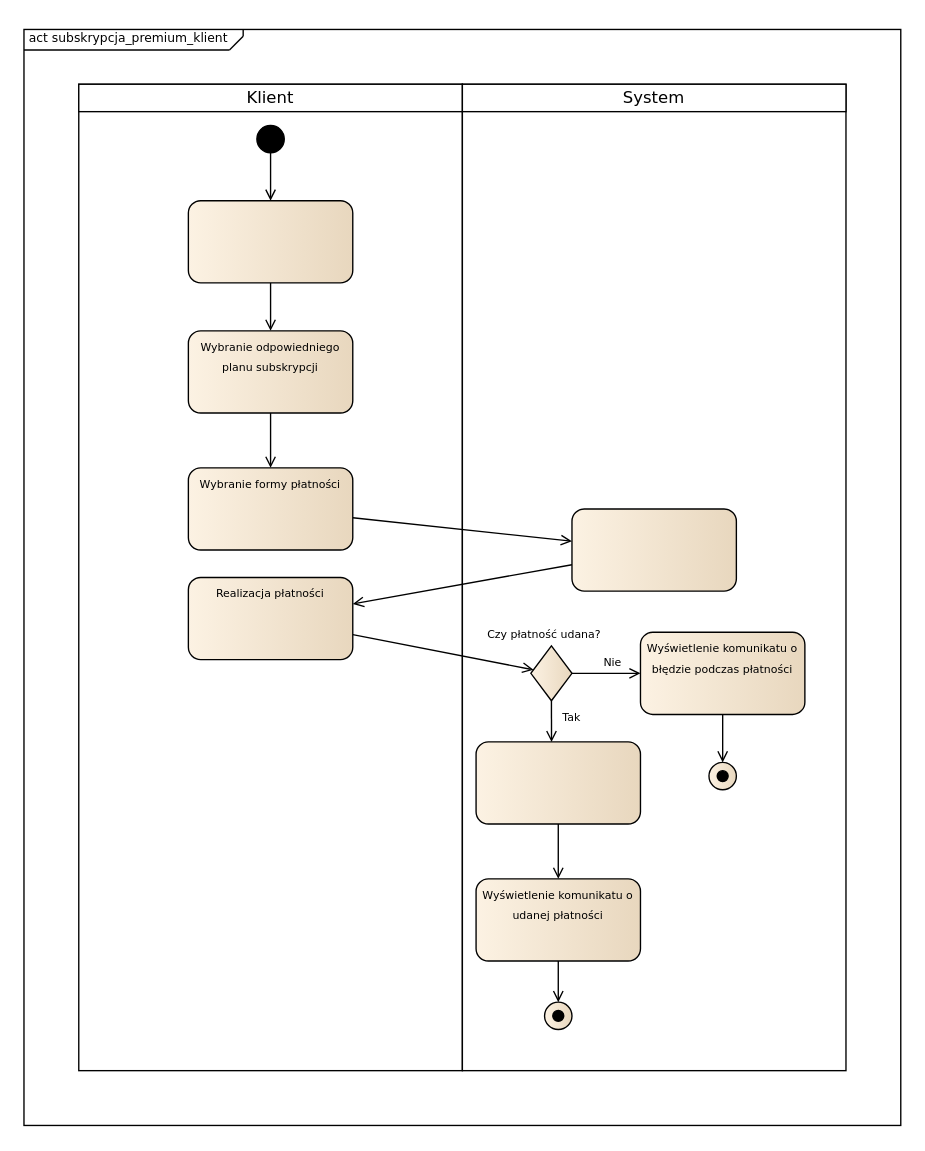
Some shapes in this 925 by 1151 pixel diagram are drawn without their labels. Each missing label, with the centre of its shape:
Aktualizacja informacji o użytkowniku: (557,782)
Przejście na stronę subskrypcji usługi premium: (270,241)
Wyświetlenie okna płatności: (653,549)
